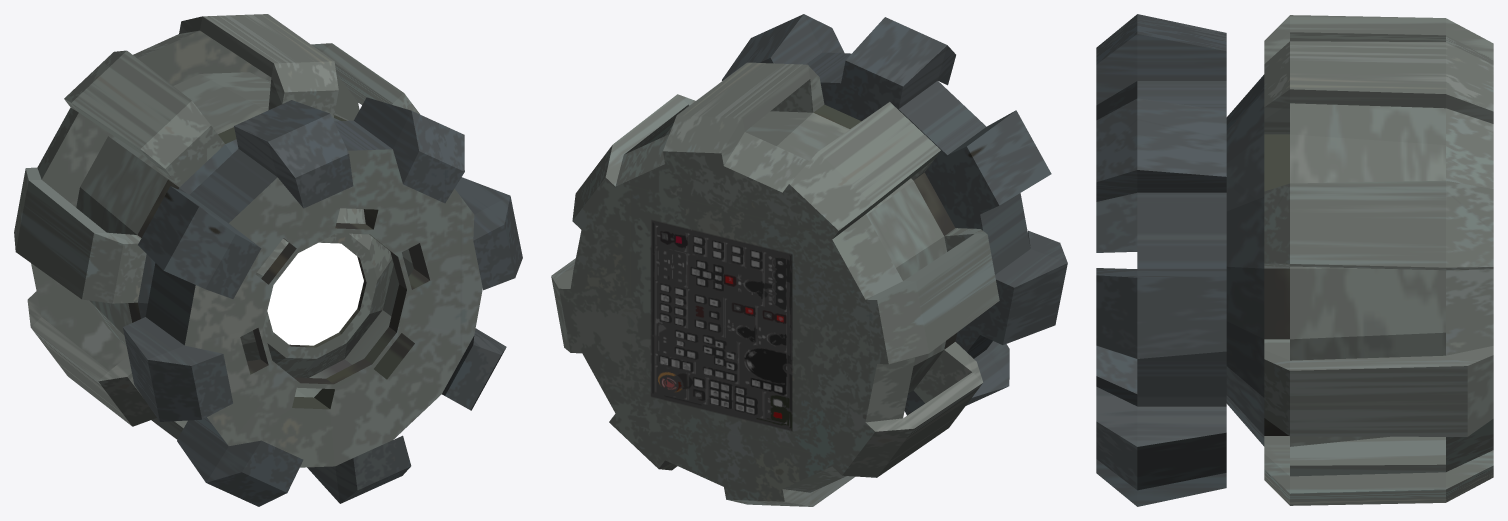
File: Archreactor.fbx
3 renders of one model, left to right at view 1: azimuth 30°, elevation 25°; view 2: azimuth 150°, elevation 25°; view 3: azimuth 270°, elevation 25°, orthographic. The views are drawn at different scales.
Visible parts, largest first — view 1: Disc_1; view 2: Disc_1; view 3: Disc_1.
Part boxes in pixels (box(x1,y1,x2,y2)): Disc_1: box(14, 14, 522, 506); Disc_1: box(551, 14, 1067, 506); Disc_1: box(1096, 14, 1493, 506).
Bounding box in the file's own units: 125 × 125 × 100.
Materials: 1 (1 with a texture image).
